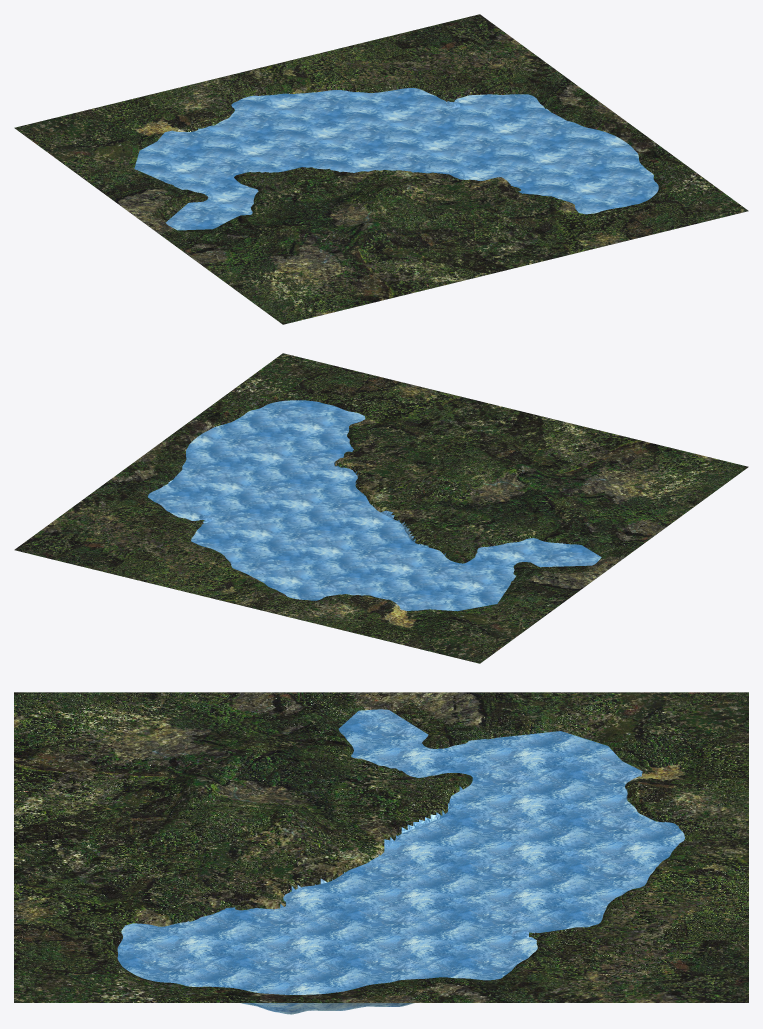
Rendered from lake.glb.
3 renders of one model, top to bottom at view 1: azimuth 30°, elevation 25°; view 2: azimuth 150°, elevation 25°; view 3: azimuth 270°, elevation 25°, orthographic. The views are drawn at different scales.
Visible parts, largest first — view 1: Landscape_plane; view 2: Landscape_plane; view 3: Landscape_plane.
Part boxes in pixels (<box>): Landscape_plane: <box>14,14,748,324</box>; Landscape_plane: <box>14,353,748,663</box>; Landscape_plane: <box>14,692,748,1014</box>.
Size of the model in its own units: 55.65 by 8.37 by 55.65.
2 materials, 2 textured.
